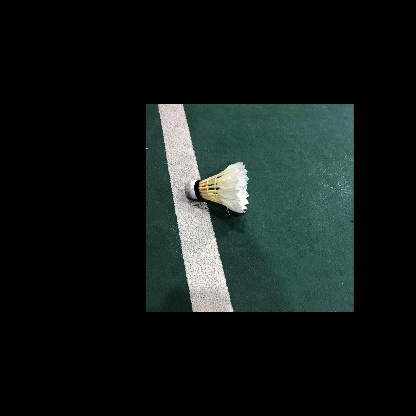ball_single: (185, 162, 249, 213)
